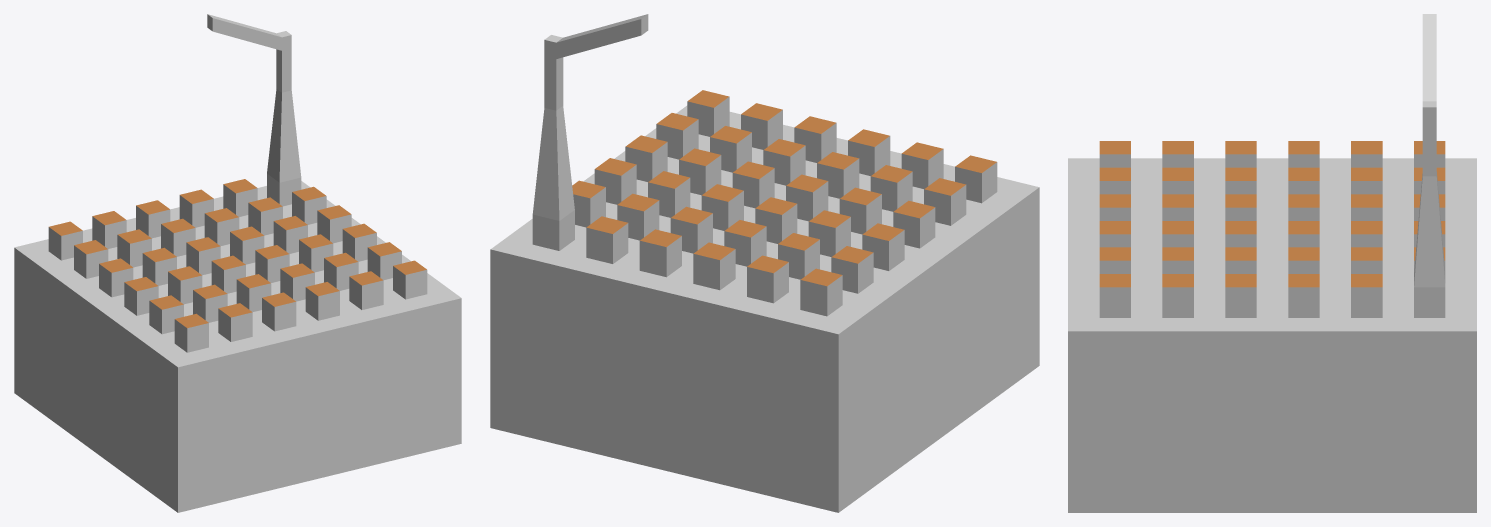
File: transmitter.fbx
The picture shows the model from 3 angles, left to right: view 1: azimuth 30°, elevation 25°; view 2: azimuth 150°, elevation 25°; view 3: azimuth 270°, elevation 25°; orthographic projection. The views are drawn at different scales.
Parts seen in each view (by area): view 1: Plane; view 2: Plane; view 3: Plane.
Part boxes in pixels (x1,y1,x2,y2): Plane: [14, 14, 461, 512]; Plane: [490, 14, 1039, 512]; Plane: [1068, 14, 1476, 512].
Bounding box in the file's own units: 99.2 × 116 × 99.2.
